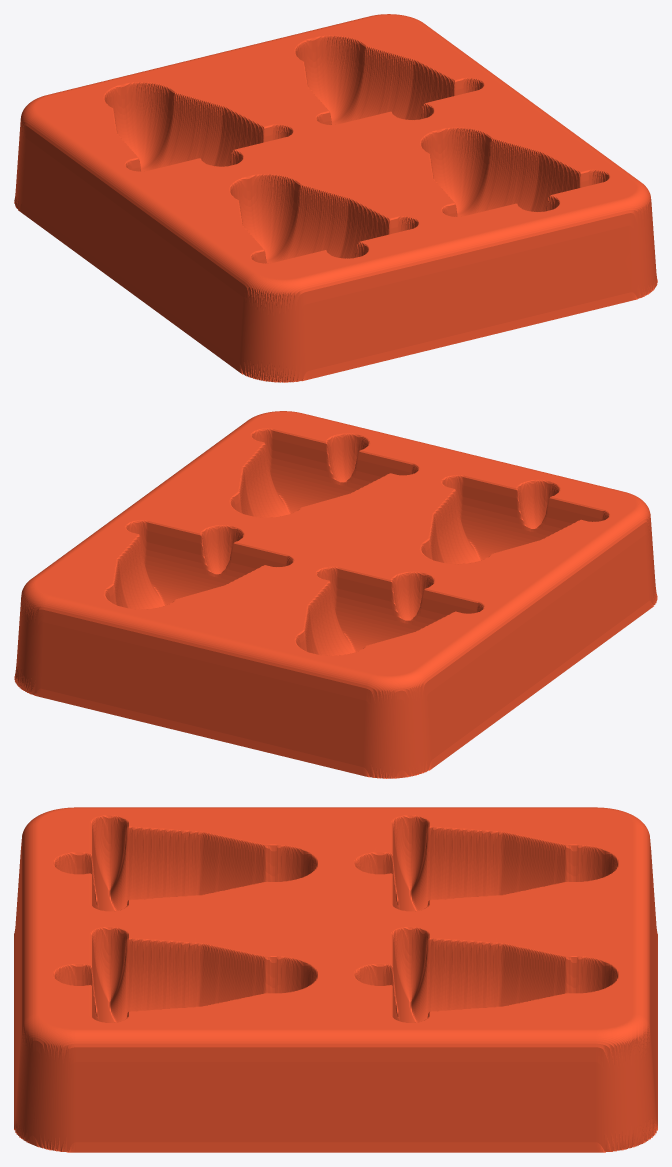
The model's file is mold.glb.
3 views of the same model, one above another, from view 1: azimuth 30°, elevation 25°; view 2: azimuth 150°, elevation 25°; view 3: azimuth 270°, elevation 25° (orthographic). The views are drawn at different scales.
Parts seen in each view (by area): view 1: geometry_0; view 2: geometry_0; view 3: geometry_0.
Part boxes in pixels (x1,y1,x2,y2): geometry_0: (14, 14, 657, 382); geometry_0: (14, 411, 657, 778); geometry_0: (14, 807, 657, 1152).
Size of the model in its own units: 0.0834 by 0.0182 by 0.0942.
